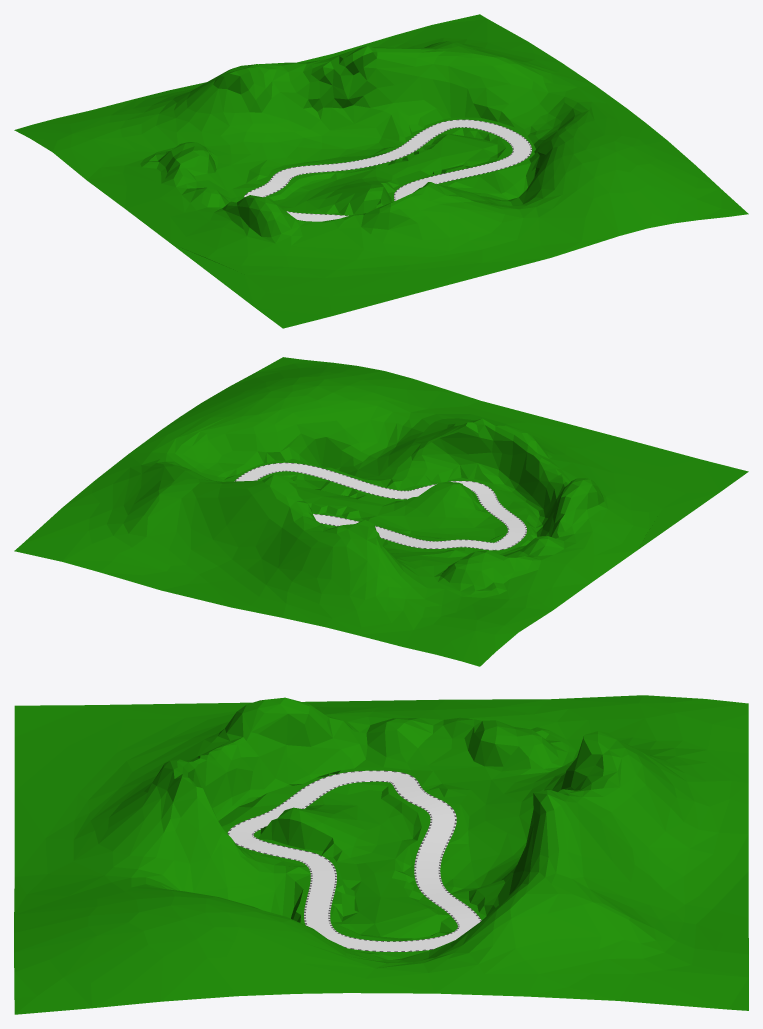
The model's file is racing_track_1.fbx.
3 views of the same model, one above another, from view 1: azimuth 30°, elevation 25°; view 2: azimuth 150°, elevation 25°; view 3: azimuth 270°, elevation 25° (orthographic). The views are drawn at different scales.
Visible parts, largest first — view 1: TrackTerrain, Road.001, Apex.001, Apex; view 2: TrackTerrain, Road.001, Apex, Apex.001; view 3: TrackTerrain, Road.001, Apex, Apex.001, Roadline, Roadline.001.
Boxes of the visible parts, bbox=[...] form: TrackTerrain: bbox=[14, 14, 748, 328]; Road.001: bbox=[245, 120, 530, 221]; Apex.001: bbox=[263, 127, 513, 216]; Apex: bbox=[244, 119, 531, 197]; TrackTerrain: bbox=[14, 357, 748, 666]; Road.001: bbox=[236, 463, 525, 549]; Apex: bbox=[234, 462, 526, 550]; Apex.001: bbox=[255, 470, 509, 543]; TrackTerrain: bbox=[14, 695, 748, 1014]; Road.001: bbox=[229, 771, 480, 951]; Apex: bbox=[227, 770, 481, 951]; Apex.001: bbox=[252, 781, 459, 941]; Roadline: bbox=[230, 772, 479, 950]; Roadline.001: bbox=[250, 780, 461, 942].
Bounding box in the file's own units: 60112 × 11579 × 60081.
